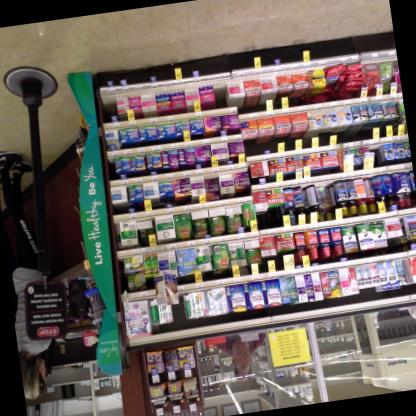empty_space: (210, 75, 225, 105), (100, 90, 115, 119), (372, 142, 380, 162)
